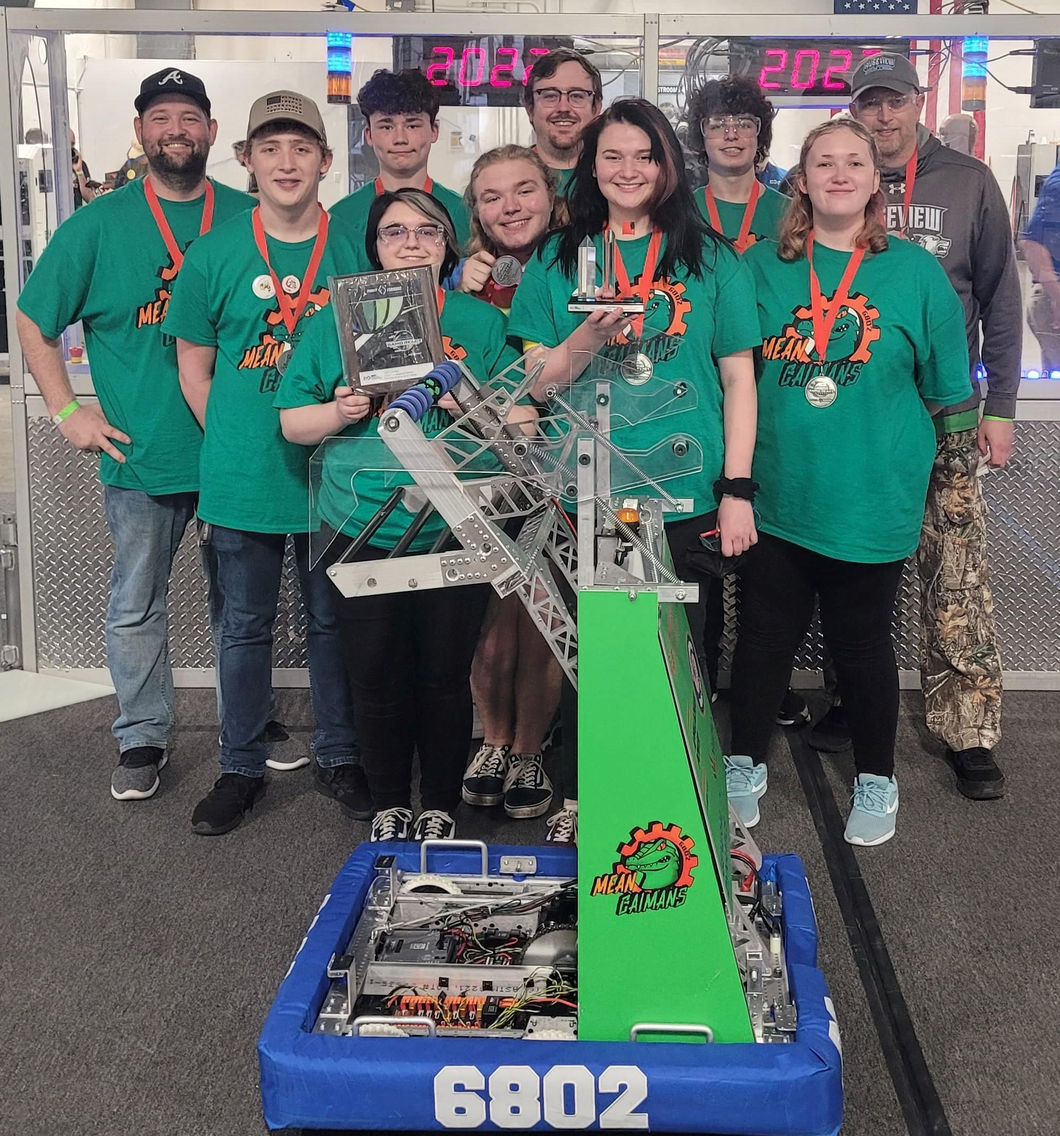robot: (253, 322, 866, 1136)
